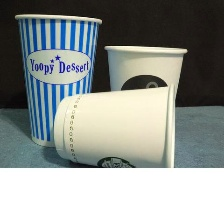paper_cup: (10, 9, 105, 151), (48, 80, 183, 166), (99, 39, 190, 128)
